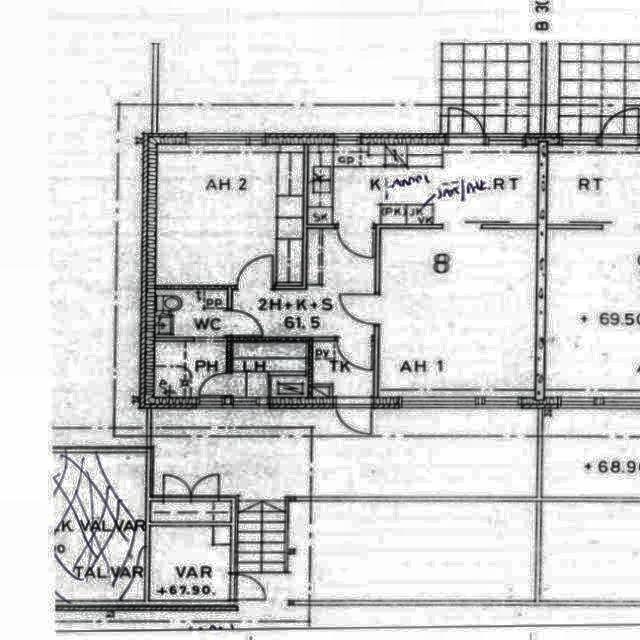room: (156, 144, 304, 286), (232, 227, 375, 337), (149, 526, 231, 601), (233, 342, 309, 398), (155, 341, 227, 397), (312, 341, 374, 397), (155, 290, 228, 337)
